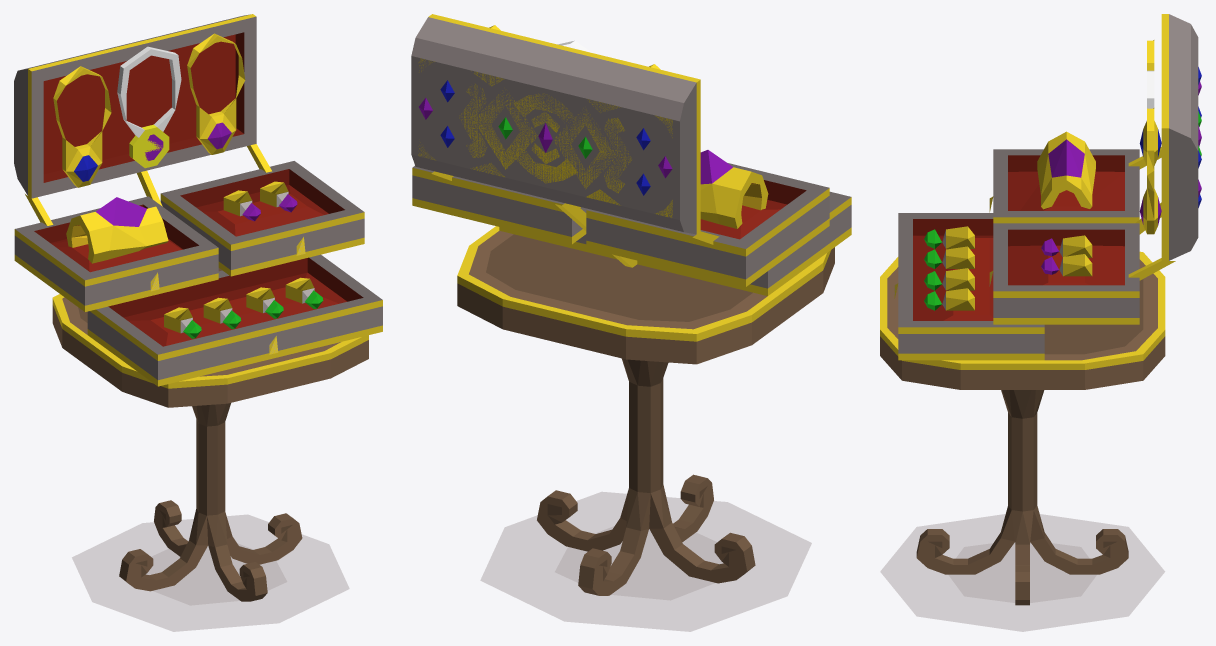
File: jewellery-box.gltf
3 renders of one model, left to right at view 1: azimuth 30°, elevation 25°; view 2: azimuth 150°, elevation 25°; view 3: azimuth 270°, elevation 25°, orthographic. The views are drawn at different scales.
Bounding box in the file's own units: 92 × 151 × 88.
Materials: 2 (2 with a texture image).
